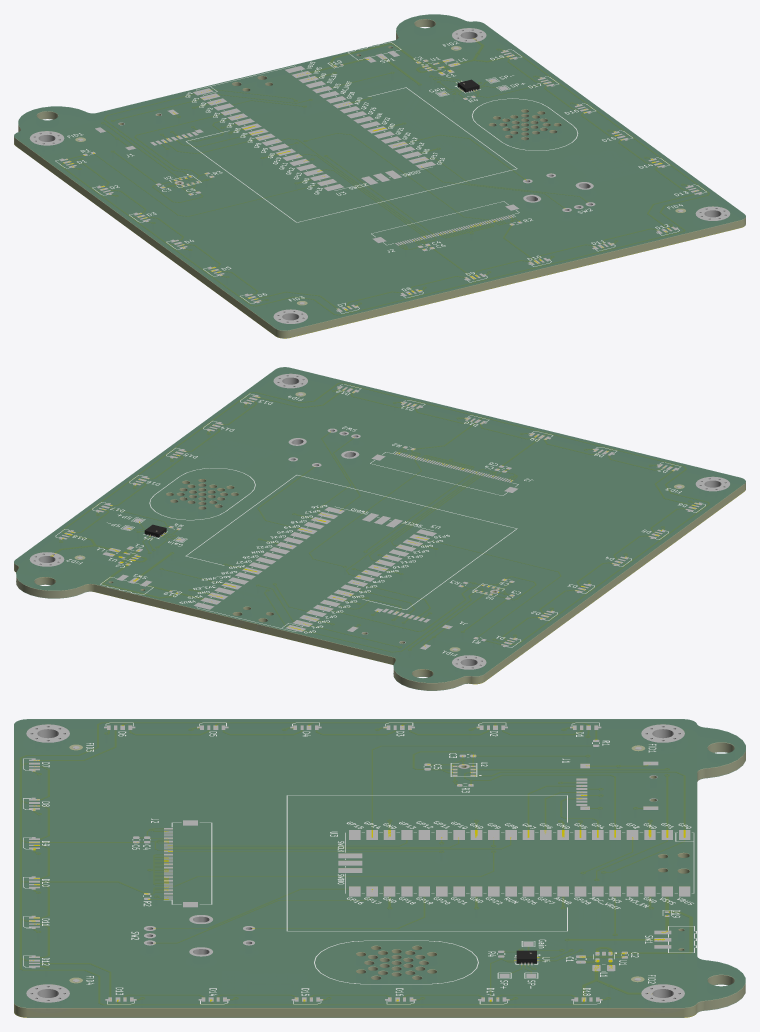
The model's file is dczia-defcon32-badge.glb.
3 views of the same model, one above another, from view 1: azimuth 30°, elevation 25°; view 2: azimuth 150°, elevation 25°; view 3: azimuth 270°, elevation 25° (orthographic). The views are drawn at different scales.
Visible parts, largest first — view 1: =>[0:1:1:7], =>[0:1:1:3]; view 2: =>[0:1:1:7], =>[0:1:1:3]; view 3: =>[0:1:1:7], =>[0:1:1:3].
Boxes of the visible parts, x1,y1,x2,y2 form: =>[0:1:1:7]: (14, 14, 745, 338); =>[0:1:1:3]: (29, 28, 742, 338); =>[0:1:1:7]: (14, 367, 745, 690); =>[0:1:1:3]: (29, 373, 744, 684); =>[0:1:1:7]: (14, 719, 745, 1017); =>[0:1:1:3]: (15, 723, 695, 1017).
Bounding box in the file's own units: 0.1 × 0.00245 × 0.1071.
Materials: 2 (2 with a texture image).
